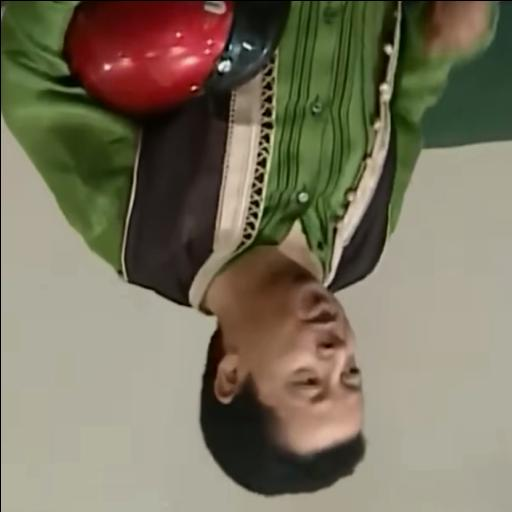fouchika: (200, 268, 364, 495)
